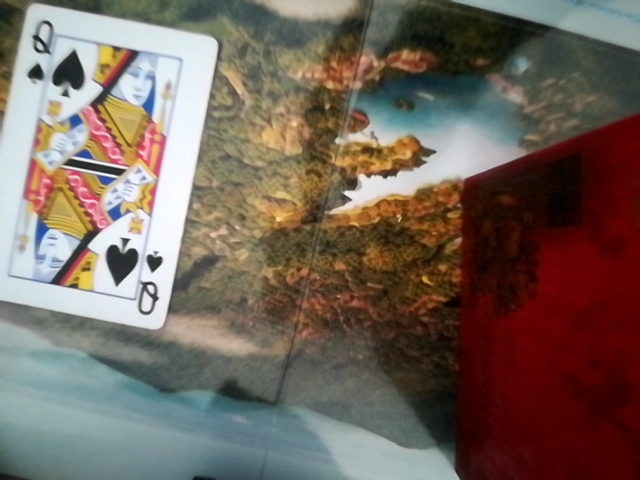ht q: (0, 0, 219, 335)
